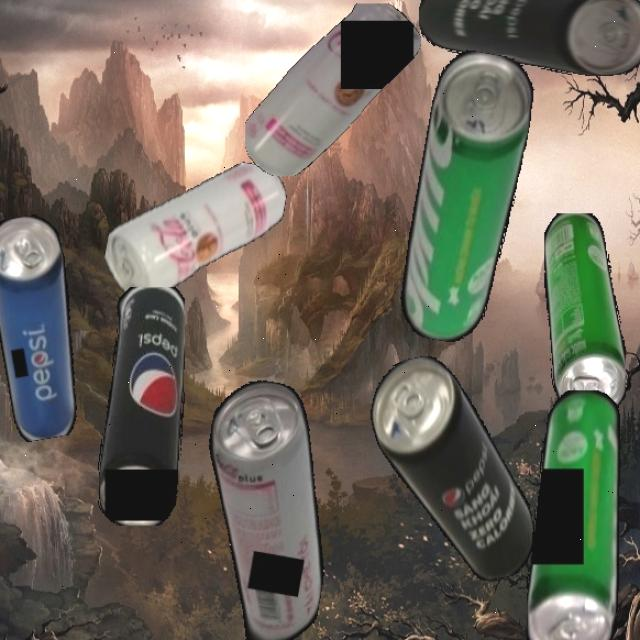debris: (174, 374, 355, 640), (363, 343, 541, 595), (393, 46, 540, 349), (99, 142, 290, 320), (244, 2, 421, 176), (526, 389, 622, 640), (0, 211, 95, 443), (97, 286, 185, 526), (543, 212, 626, 418), (418, 0, 640, 76)
